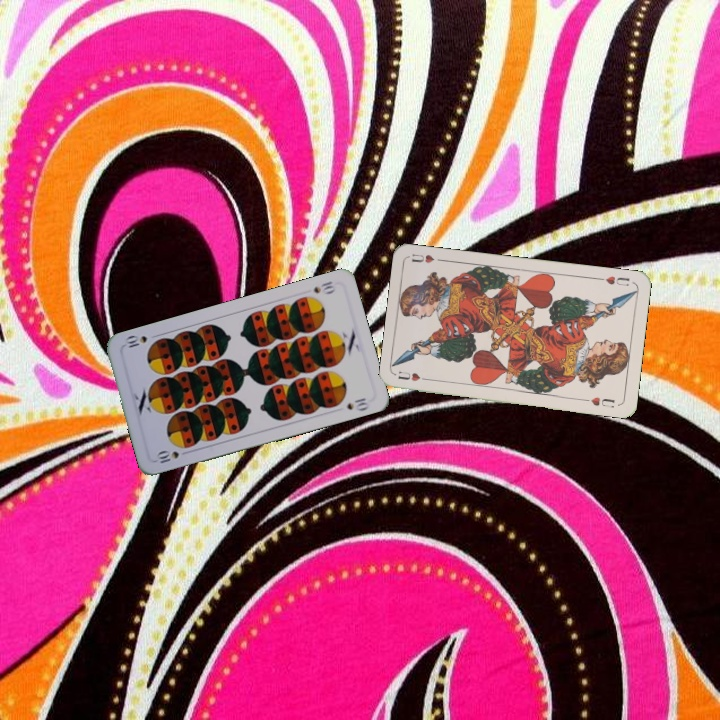HU: (394, 367, 434, 384), (595, 272, 632, 289)
S10: (152, 447, 192, 467), (309, 277, 338, 296)
